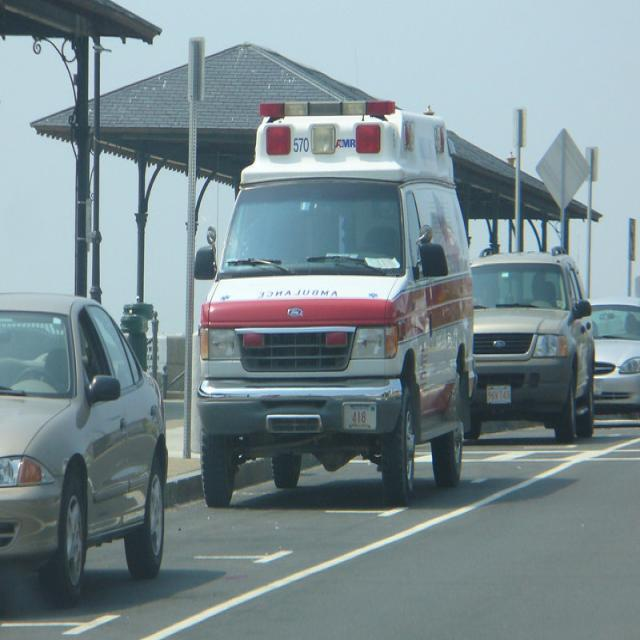emergency: (196, 94, 477, 512)
